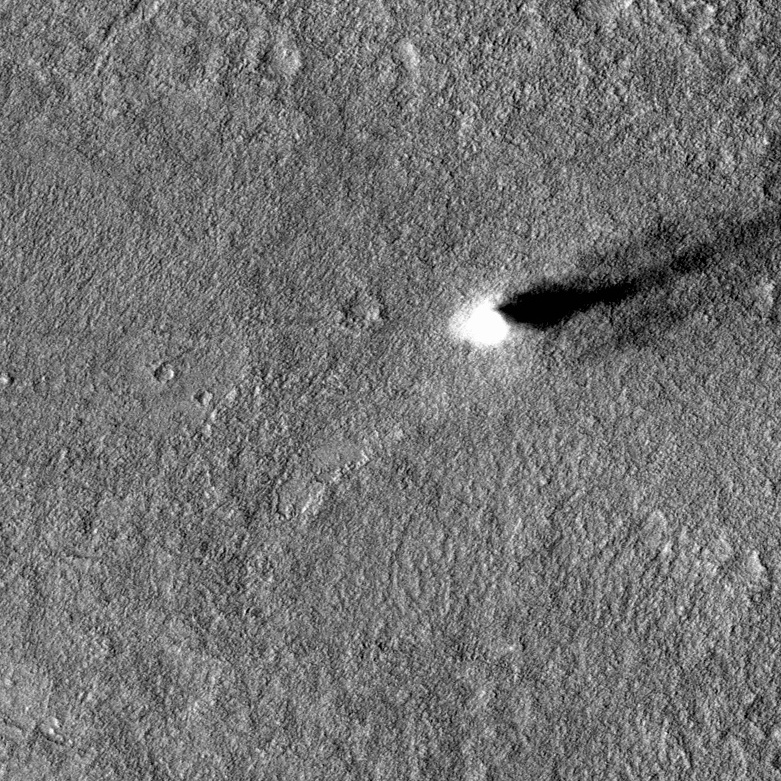dust_devil: (455, 204, 781, 352)
